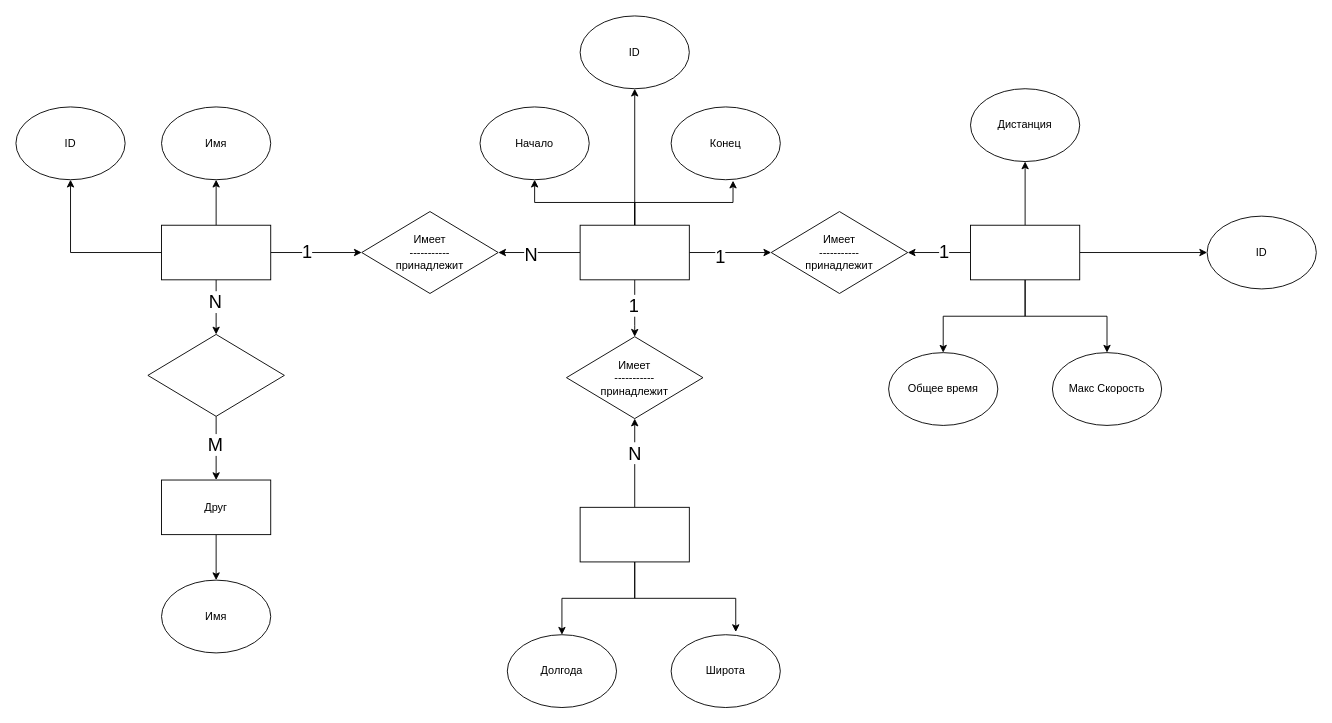
Image size: 1332x723. Some labels were removed from this diagram. Here are the shapes that lost their labels. From the top down, the centre of each, then its label:
the point at 216,252: Бегун
the point at 634,252: Пробежка
the point at 1025,252: Статистика
the point at 215,375: Имеет
the point at 634,534: Геопозиция
